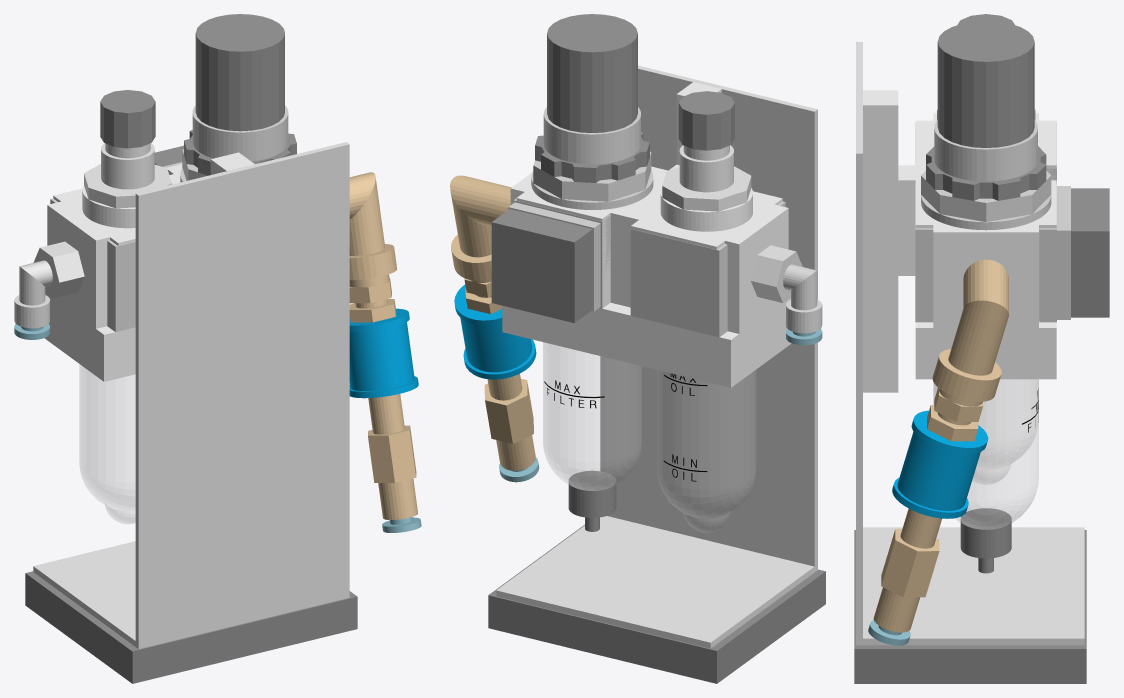
The model's file is service-unit.glb.
3 views of the same model, side by side, from view 1: azimuth 30°, elevation 25°; view 2: azimuth 150°, elevation 25°; view 3: azimuth 270°, elevation 25° (orthographic). The views are drawn at different scales.
Parts seen in each view (by area): view 1: Clamp__go1041__mesh3, Clamp__go1041__mesh0, Clamp__go1041__mesh7, Clamp__go1041__mesh4, Valve1__go1088__mesh0, Clamp__go1041__mesh2, Clamp__go1041__mesh8, Air_Open_Close__go1154__mesh0, Valve2__go998__mesh0, Clamp__go1041__mesh6, Clamp__go1041__mesh9, Clamp__go1041__mesh5; view 2: Clamp__go1041__mesh3, Clamp__go1041__mesh7, Clamp__go1041__mesh8, Clamp__go1041__mesh9, Clamp__go1041__mesh2, Clamp__go1041__mesh1, Clamp__go1041__mesh0, Valve1__go1088__mesh0, Clamp__go1041__mesh4, Air_Open_Close__go1154__mesh0, Valve2__go998__mesh0, Clamp__go1041__mesh6 (+1 smaller); view 3: Clamp__go1041__mesh7, Clamp__go1041__mesh3, Clamp__go1041__mesh4, Clamp__go1041__mesh8, Valve1__go1088__mesh0, Clamp__go1041__mesh9, Clamp__go1041__mesh0, Clamp__go1041__mesh1, Air_Open_Close__go1154__mesh0, Clamp__go1041__mesh2, Clamp__go1041__mesh5.
Part boxes in pixels (bbox=[...]): Clamp__go1041__mesh3: bbox=[33, 142, 349, 648]; Clamp__go1041__mesh0: bbox=[25, 571, 357, 683]; Clamp__go1041__mesh7: bbox=[44, 152, 254, 381]; Clamp__go1041__mesh4: bbox=[349, 172, 417, 519]; Valve1__go1088__mesh0: bbox=[195, 14, 284, 131]; Clamp__go1041__mesh2: bbox=[79, 364, 135, 523]; Clamp__go1041__mesh8: bbox=[50, 105, 288, 332]; Air_Open_Close__go1154__mesh0: bbox=[349, 308, 418, 398]; Valve2__go998__mesh0: bbox=[100, 90, 155, 148]; Clamp__go1041__mesh6: bbox=[14, 260, 52, 328]; Clamp__go1041__mesh9: bbox=[154, 130, 296, 175]; Clamp__go1041__mesh5: bbox=[14, 323, 421, 532]; Clamp__go1041__mesh3: bbox=[496, 65, 817, 648]; Clamp__go1041__mesh7: bbox=[502, 82, 791, 387]; Clamp__go1041__mesh8: bbox=[508, 107, 785, 337]; Clamp__go1041__mesh9: bbox=[491, 131, 649, 531]; Clamp__go1041__mesh2: bbox=[657, 370, 755, 532]; Clamp__go1041__mesh1: bbox=[543, 342, 641, 490]; Clamp__go1041__mesh0: bbox=[488, 524, 825, 683]; Valve1__go1088__mesh0: bbox=[547, 14, 637, 132]; Clamp__go1041__mesh4: bbox=[450, 175, 535, 470]; Air_Open_Close__go1154__mesh0: bbox=[454, 284, 536, 379]; Valve2__go998__mesh0: bbox=[678, 91, 734, 150]; Clamp__go1041__mesh6: bbox=[783, 264, 822, 333]; Clamp__go1041__mesh7: bbox=[863, 90, 1056, 392]; Clamp__go1041__mesh3: bbox=[856, 42, 1084, 645]; Clamp__go1041__mesh4: bbox=[873, 259, 1008, 632]; Clamp__go1041__mesh8: bbox=[915, 120, 1070, 322]; Valve1__go1088__mesh0: bbox=[937, 21, 1034, 147]; Clamp__go1041__mesh9: bbox=[926, 146, 1109, 573]; Clamp__go1041__mesh0: bbox=[854, 530, 1086, 683]; Clamp__go1041__mesh1: bbox=[933, 379, 1038, 529]; Air_Open_Close__go1154__mesh0: bbox=[892, 410, 988, 518]; Clamp__go1041__mesh2: bbox=[934, 380, 1038, 484]; Clamp__go1041__mesh5: bbox=[868, 620, 910, 645].
Size of the model in its own units: 0.132 by 0.192 by 0.0726.
Materials: 11 (2 with a texture image).
